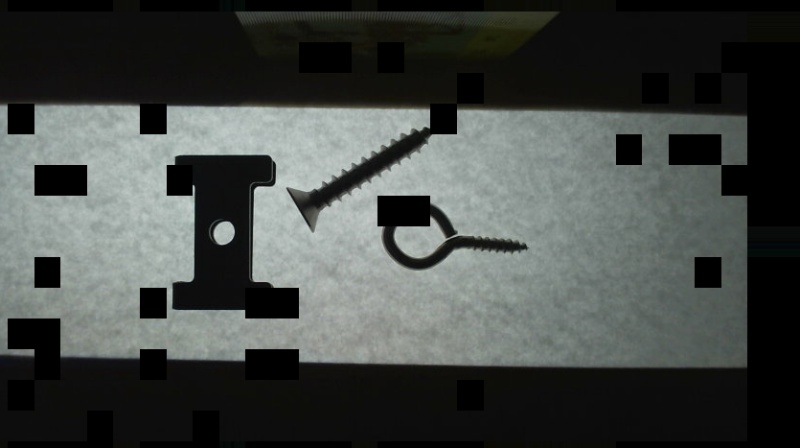O001: (380, 195, 532, 273)
O002: (166, 151, 277, 314)
S001: (284, 123, 438, 236)
